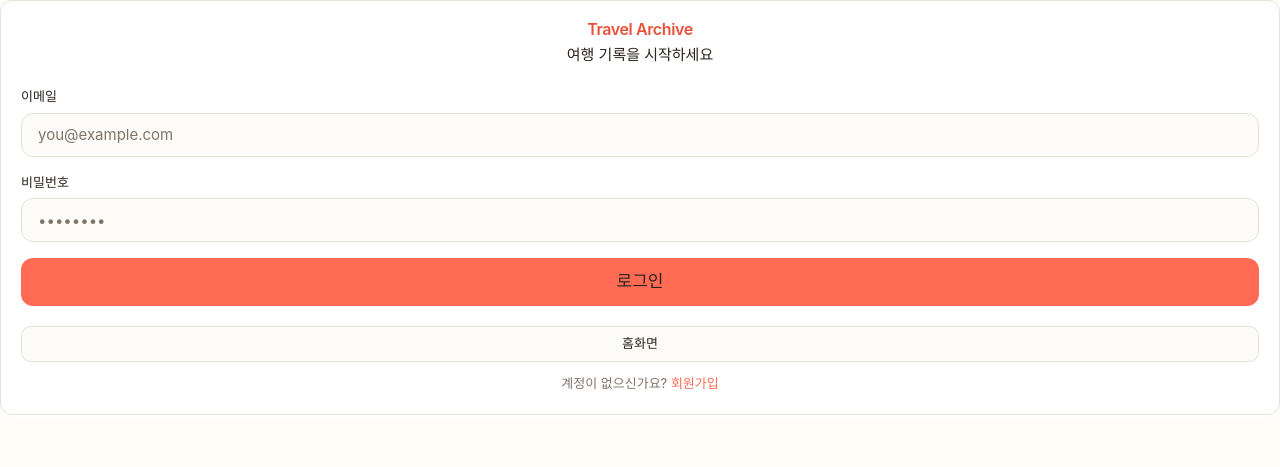
Test: LoginPage › keeps the home link available when validation fails
The image size is (1280, 467).
Click the button "로그인". click: {"x": 640, "y": 282}
box: [21,258,1259,306]
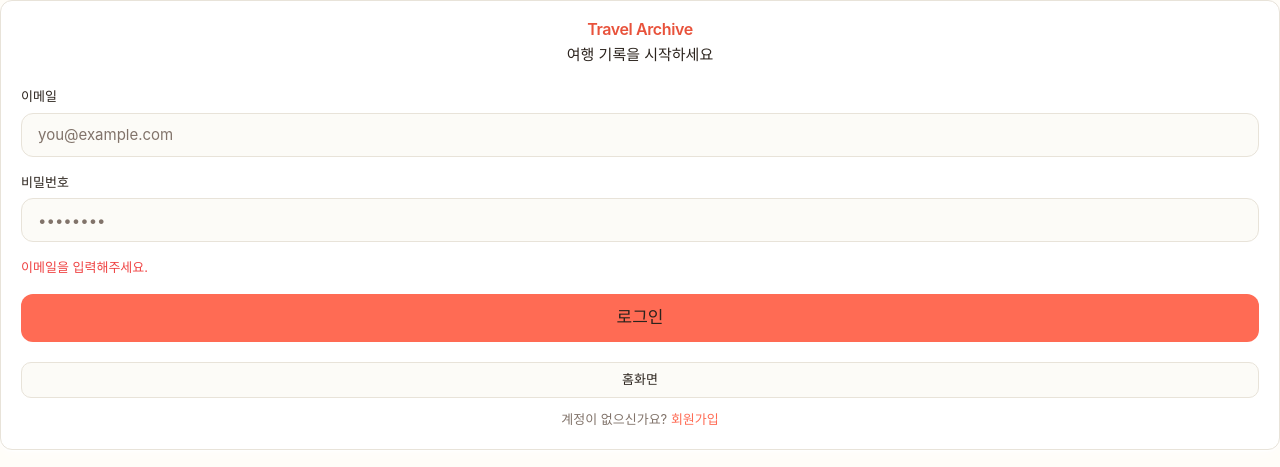
expect the message reads "이메일을 입력해주세요.": met, box [21,259,148,275]
